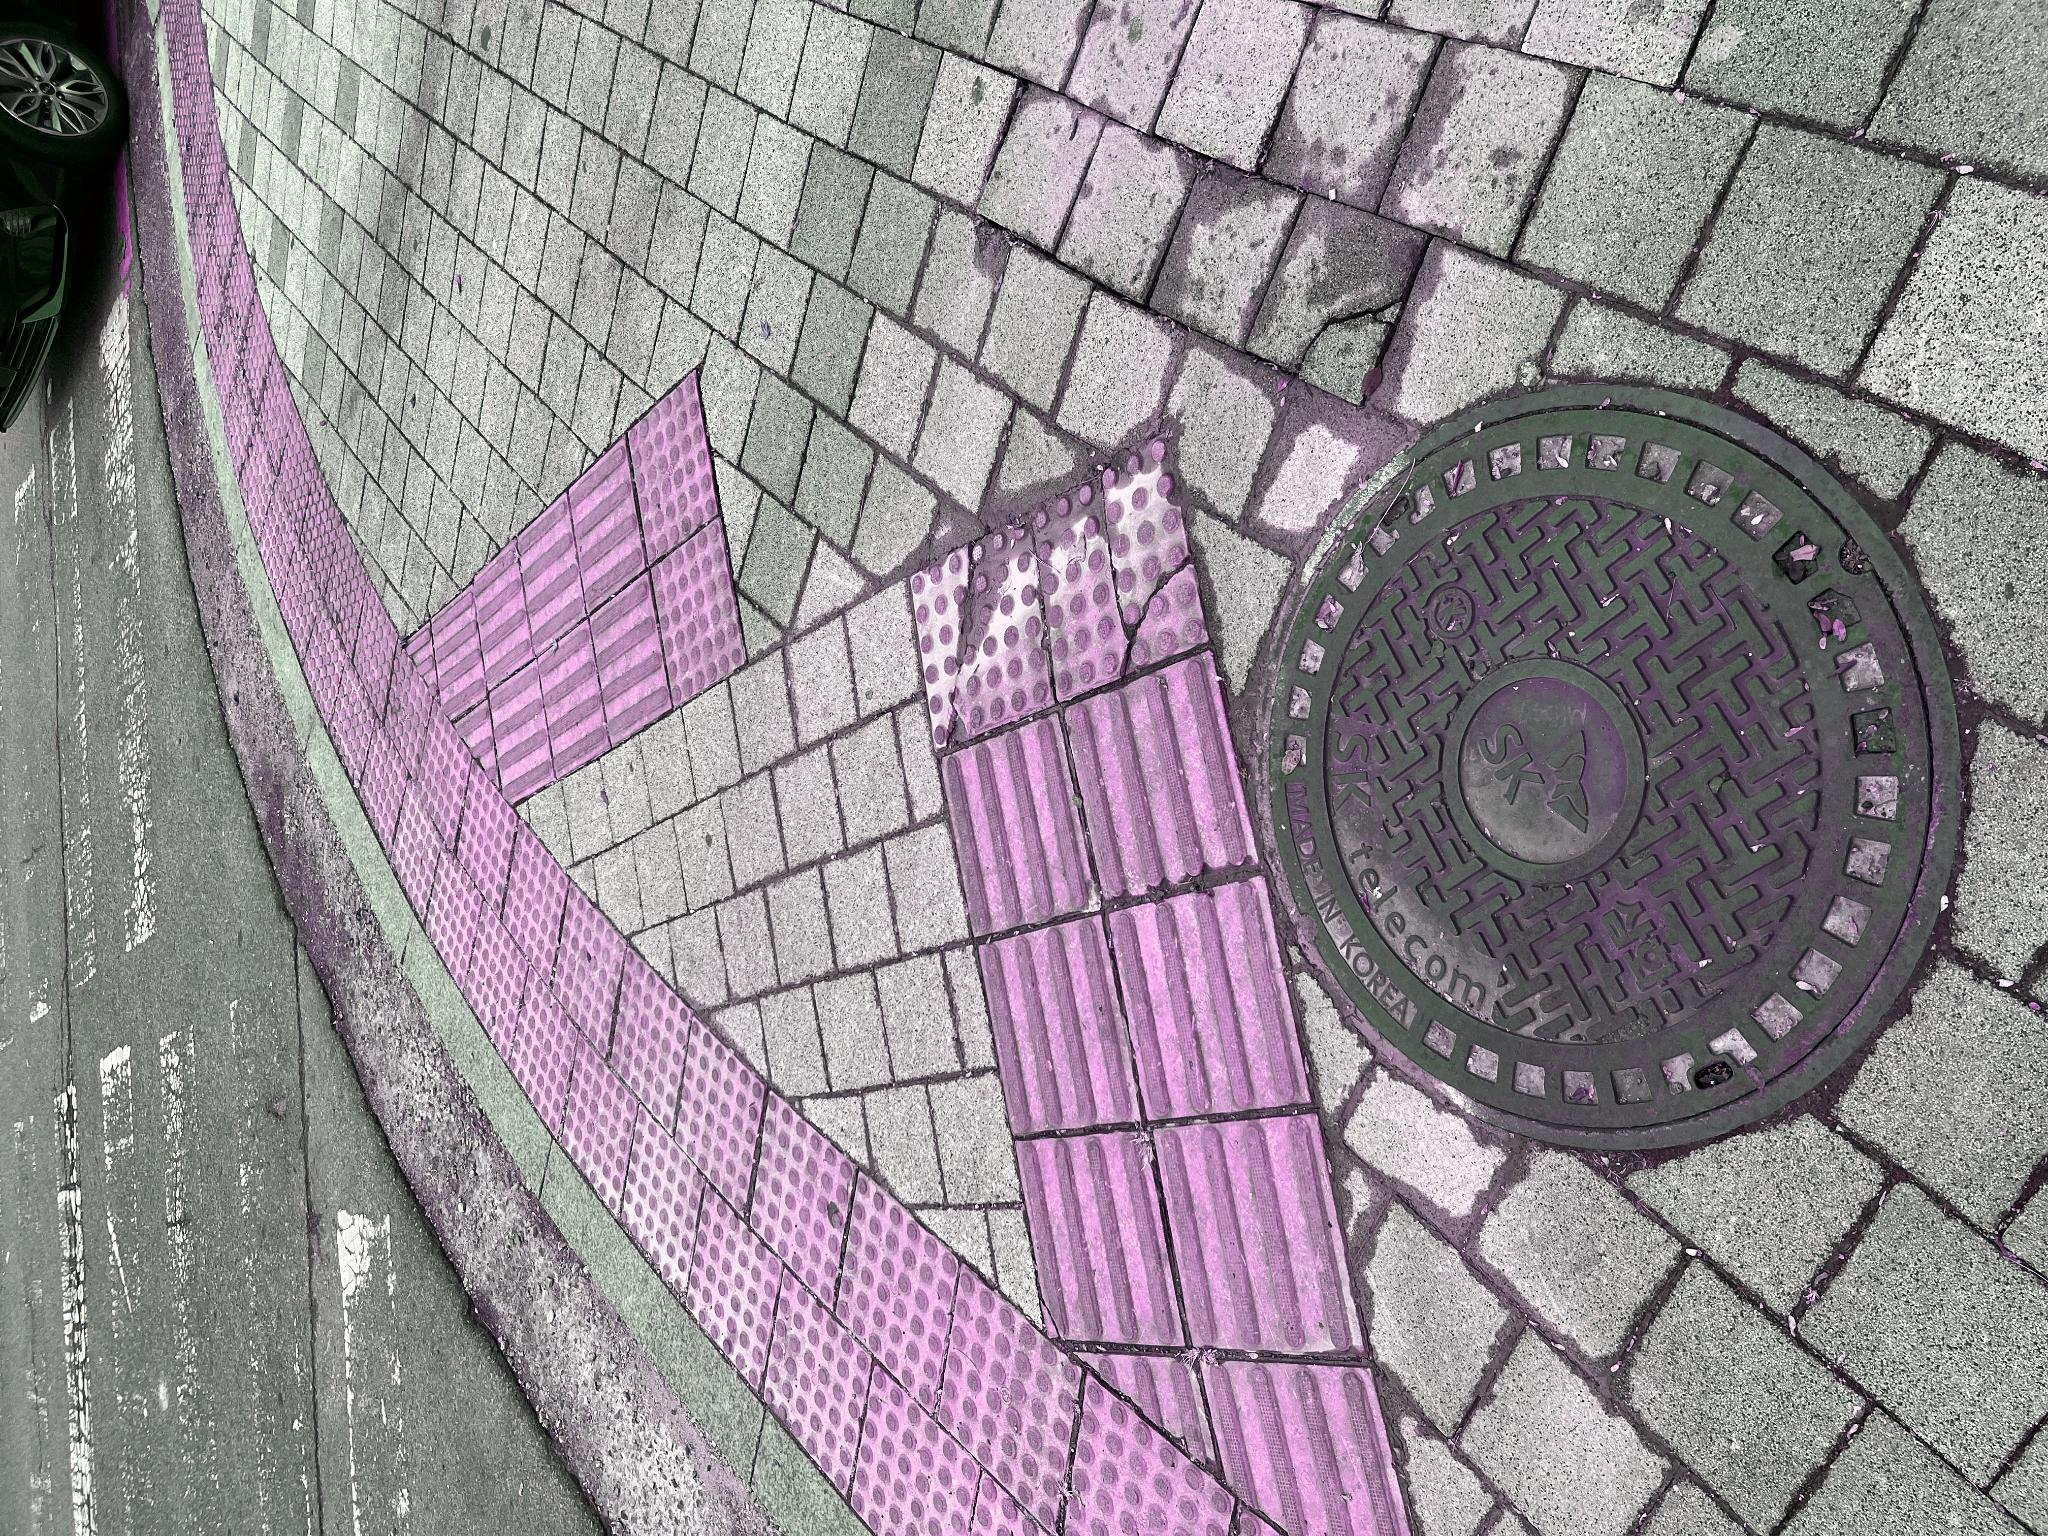Stop block broken: (834, 1029, 1100, 1205), (787, 910, 1021, 1052)
Stop block normal: (0, 937, 273, 1081), (123, 836, 364, 958), (42, 765, 266, 873), (226, 750, 445, 854), (829, 650, 1018, 745), (972, 628, 1164, 718)
Straight block normal: (184, 1155, 423, 1365), (635, 1063, 884, 1257), (416, 1110, 658, 1309), (403, 979, 619, 1139), (601, 942, 822, 1096), (790, 591, 963, 670), (922, 568, 1100, 642), (758, 537, 916, 608), (884, 518, 1043, 586)
